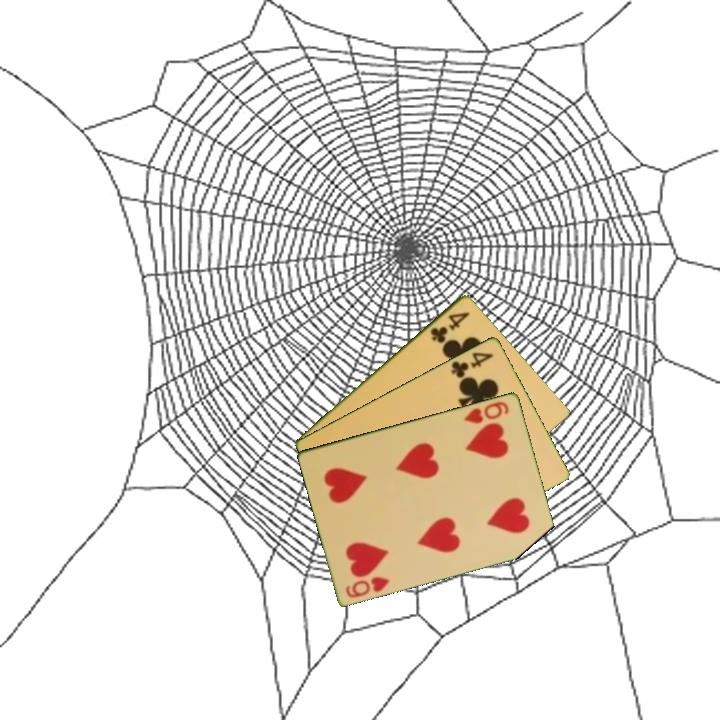4c: (426, 308, 473, 346), (447, 348, 497, 381)
6h: (461, 397, 512, 426), (342, 572, 393, 600)
